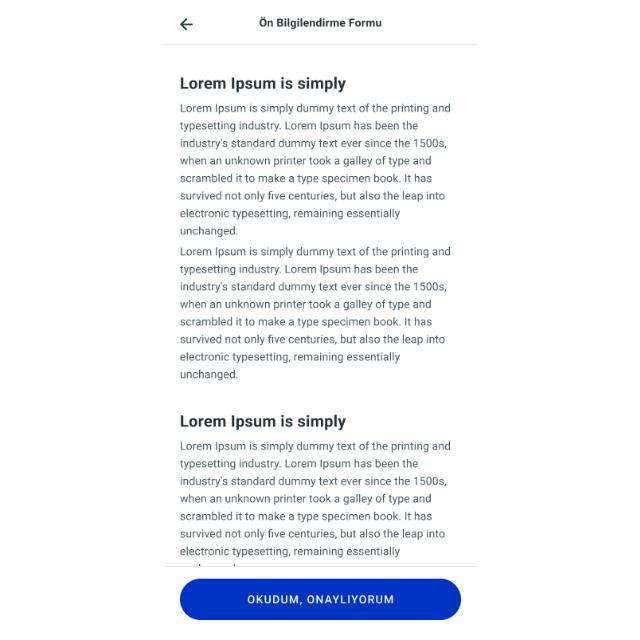QLabel: (172, 244, 452, 382), (172, 102, 454, 238), (174, 438, 448, 558), (176, 412, 347, 430), (175, 76, 348, 92), (242, 593, 396, 605), (255, 16, 382, 29)
VAppBar: (164, 0, 476, 46)
VBtn: (178, 578, 464, 620)
VFooter: (164, 568, 476, 640)
VIcon: (179, 18, 193, 30)
